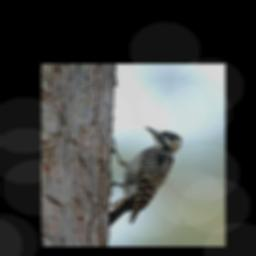Woodpecker: (100, 126, 184, 229)
